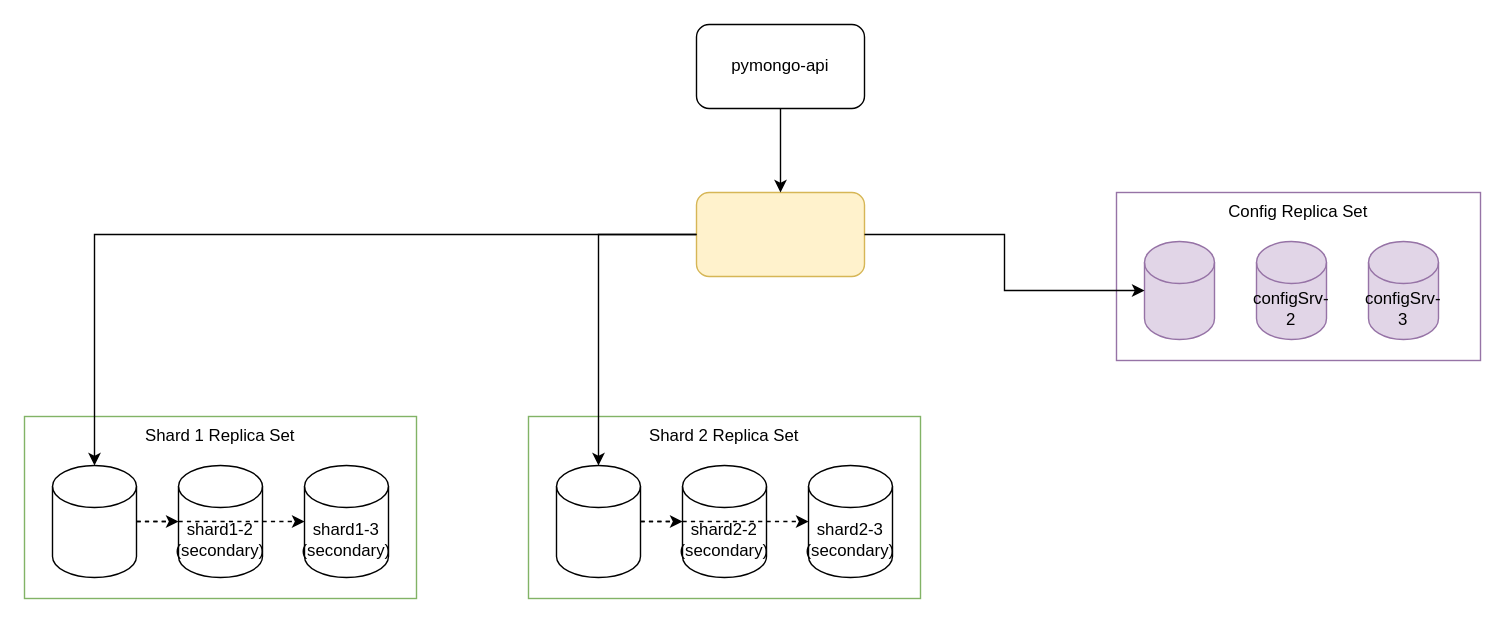
Some shapes in this 1505 by 623 pixel diagram are drawn without their labels. The shapes that lost their labels are listed below. From the top down, each one's centre as x and y in pixels, then its label:
At pixel 779 233: "mongos (router)".
At pixel 1178 290: "configSrv-1".
At pixel 93 521: "shard1-1 (primary)".
At pixel 597 521: "shard2-1 (primary)".
